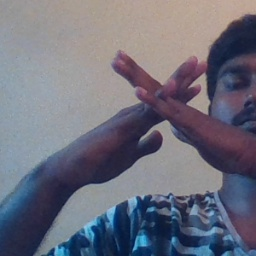W: (98, 42, 220, 170)
